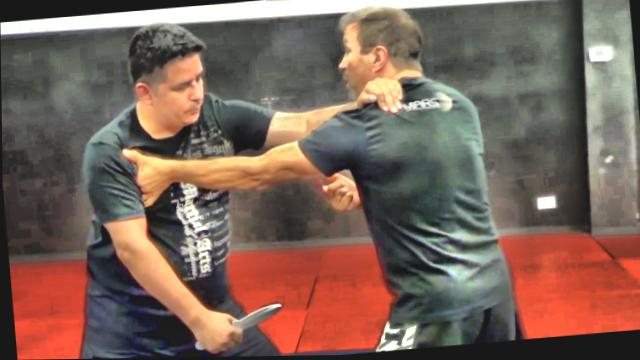knife: (189, 299, 285, 353)
